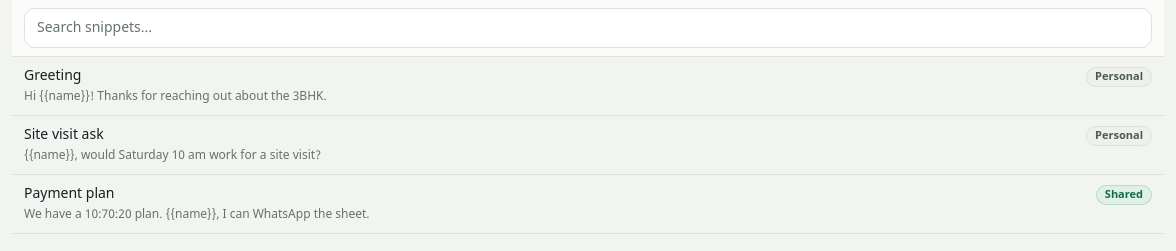
Test case: SnippetPicker › empty result shows an empty state, never a blank panel
Type "zzz" into the search field labelled "Search snippets" at (588, 28), box x1=24 y1=8 x2=1152 y2=48
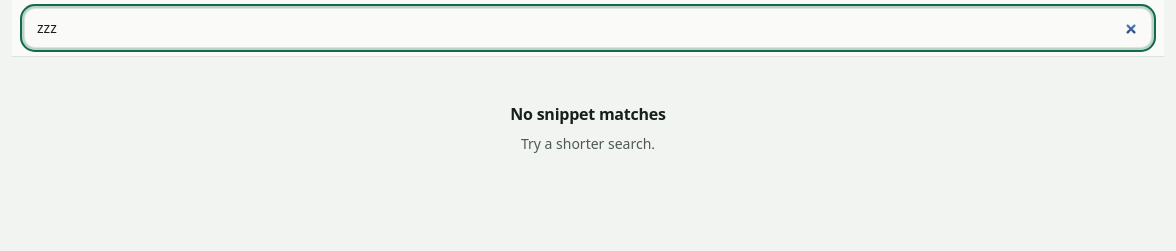
Result: the heading "No snippet matches" is shown at x1=510 y1=106 x2=666 y2=127
